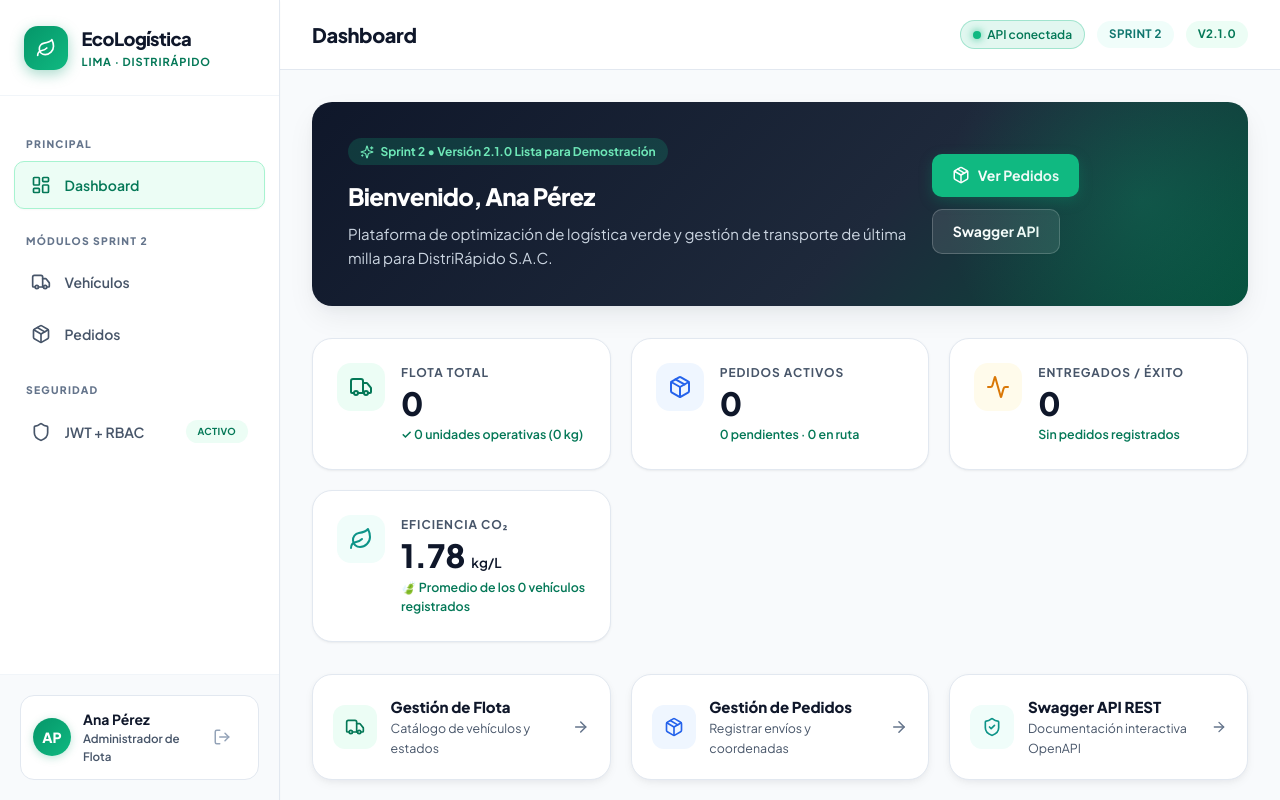
Test: App › muestra el layout con el usuario autenticado y navega entre módulos
expect the text "Administrador de Flota" is shown: met, box [83,730,187,767]
expect the text "AP" is shown: met, box [33,718,71,756]
Step 1. Click the link "Vehículos" → (80, 282), box [31,272,130,292]
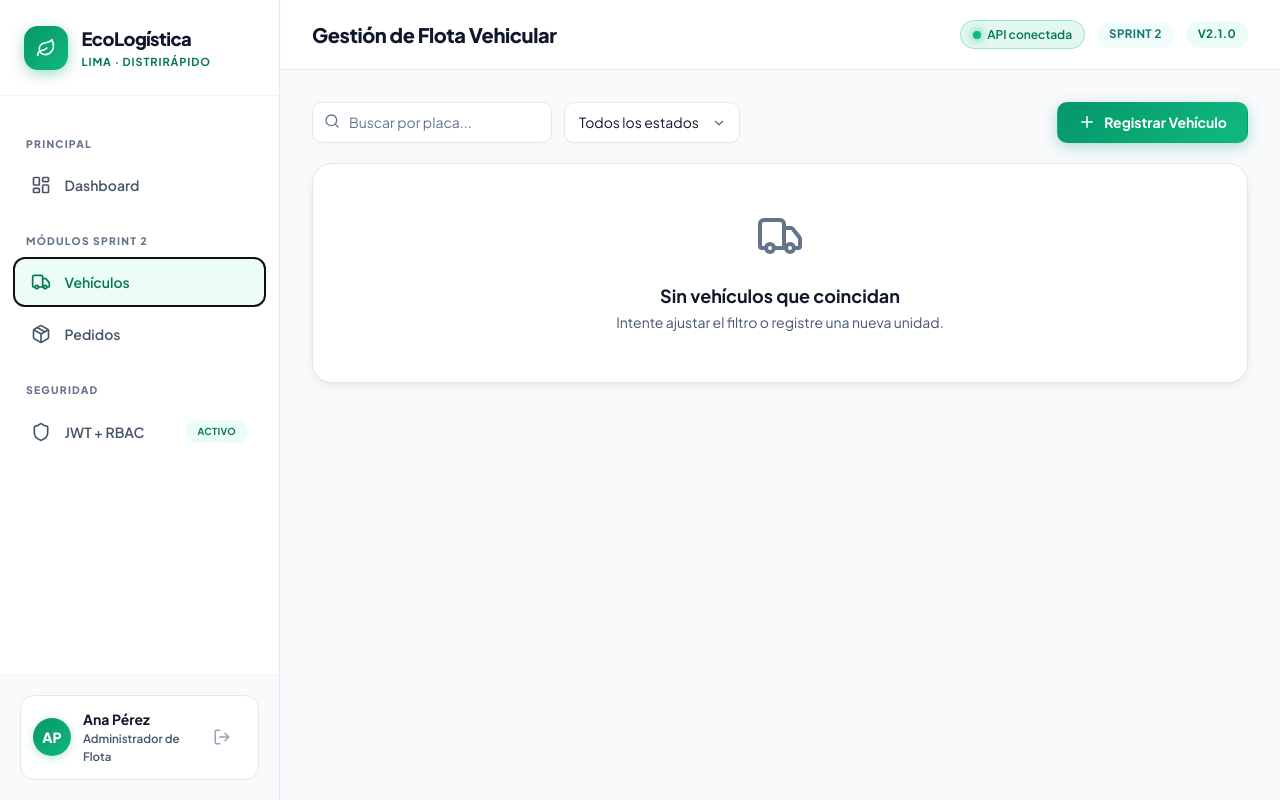
expect the heading "Gestión de Flota Vehicular" is shown: met, box [312,18,557,50]
Step 2. Click the link "Pedidos" → (76, 334), box [31,324,120,344]
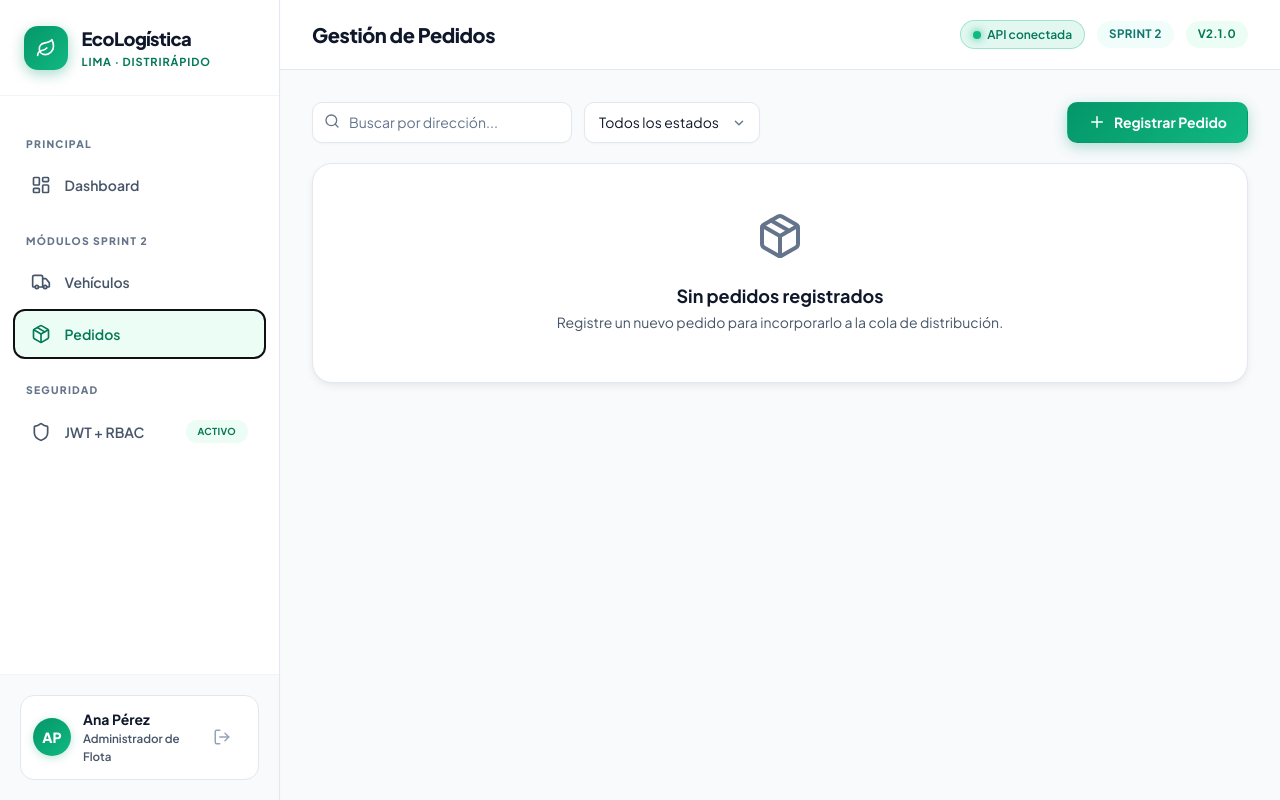
expect the heading "Gestión de Pedidos" is shown: met, box [312,18,495,50]
